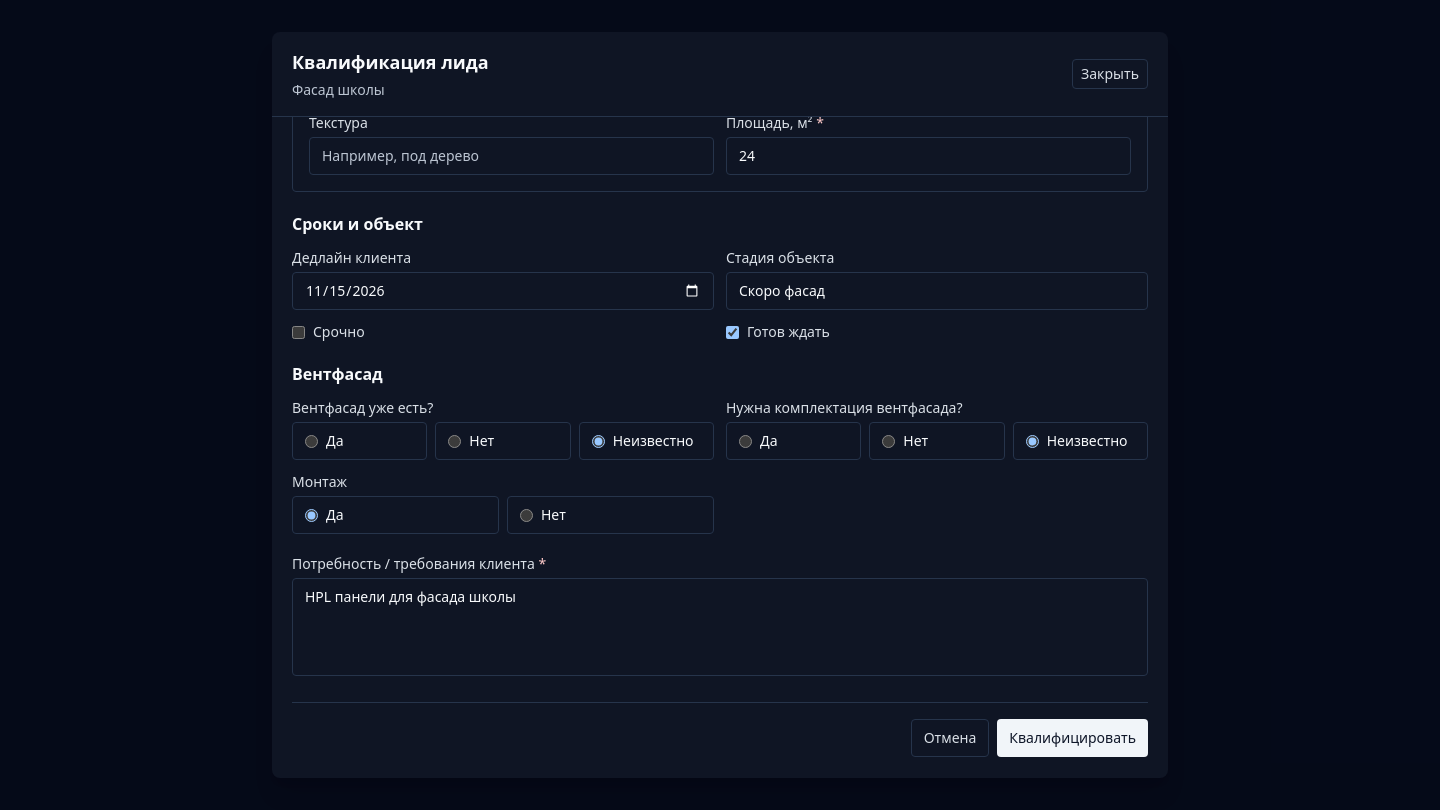
QualifyLeadModal MANAGER Stage 1 › shows a 403 without logging the user out
This screenshot has width=1440, height=810.
(page scrolled)
Click the button "Квалифицировать" at {"x": 1073, "y": 738}, box [997,719,1148,757]
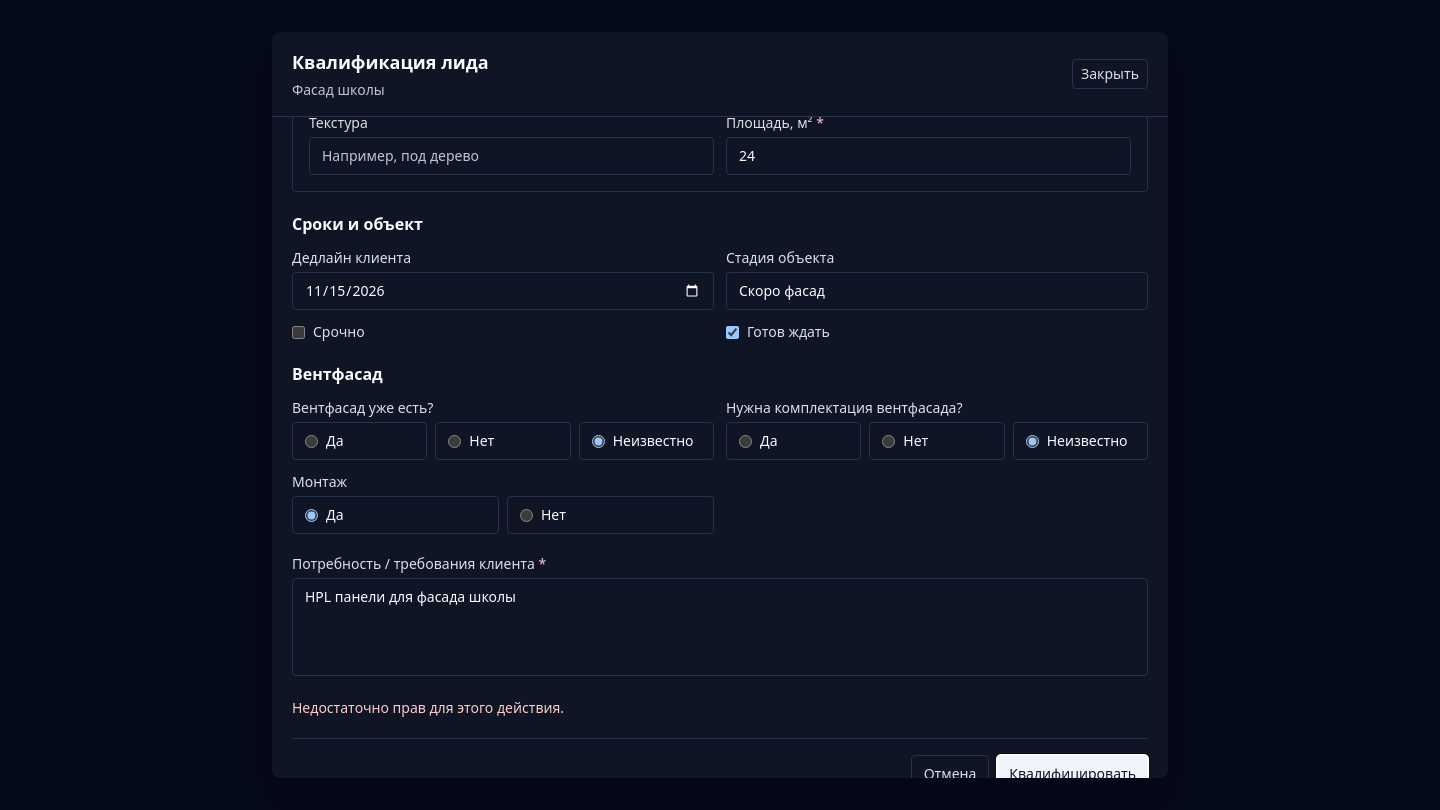
Now the text "Недостаточно прав для этого действия." is shown, box [292,698,564,717]
